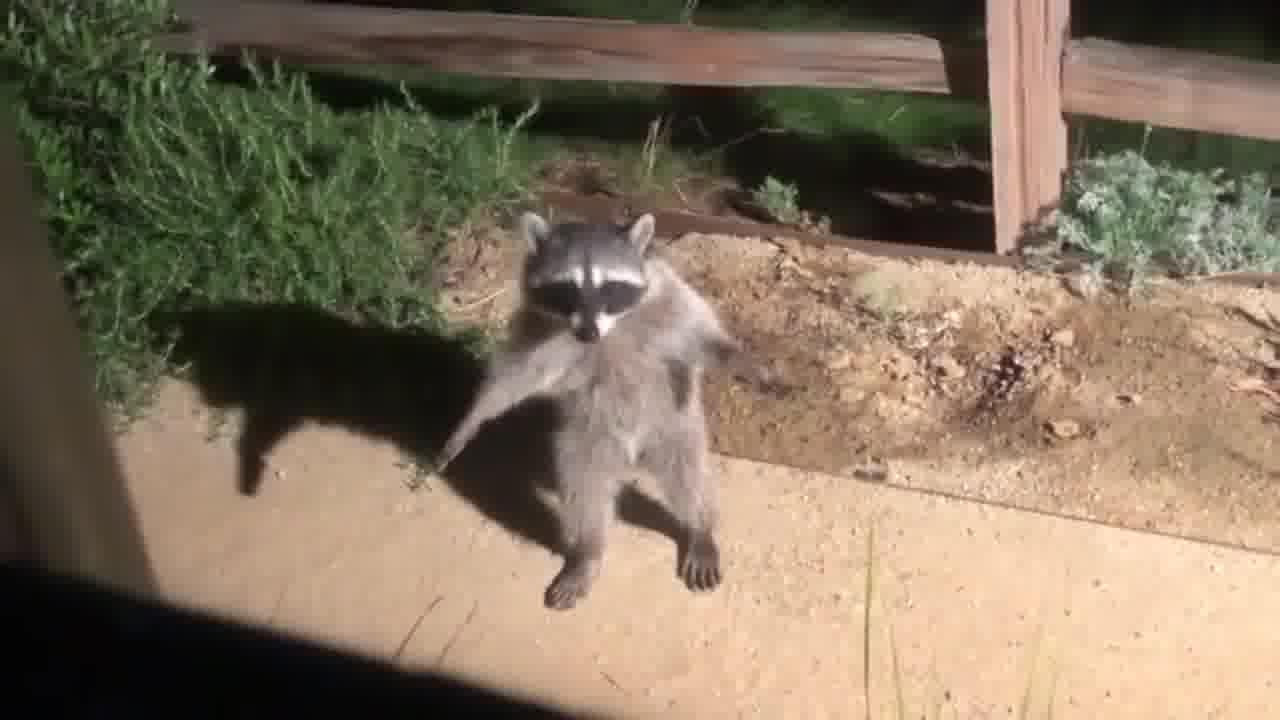raccoon: (397, 194, 819, 625)
